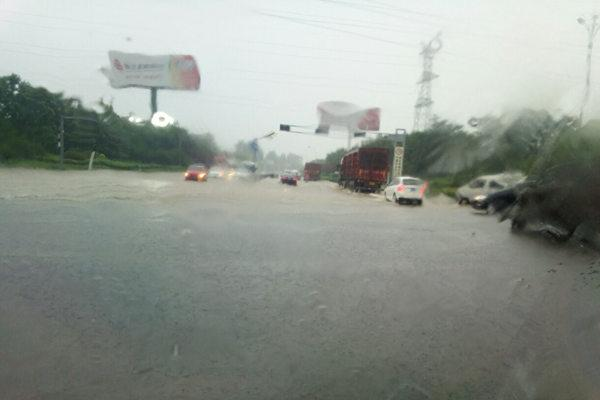bus: (337, 145, 391, 192), (302, 161, 322, 182)
car: (455, 172, 528, 209), (384, 175, 425, 206), (184, 161, 207, 182), (209, 166, 226, 180), (279, 172, 297, 185)
